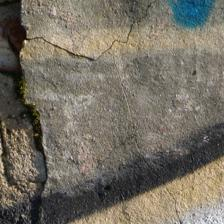Crack: (103, 0, 163, 91), (62, 0, 94, 84)
